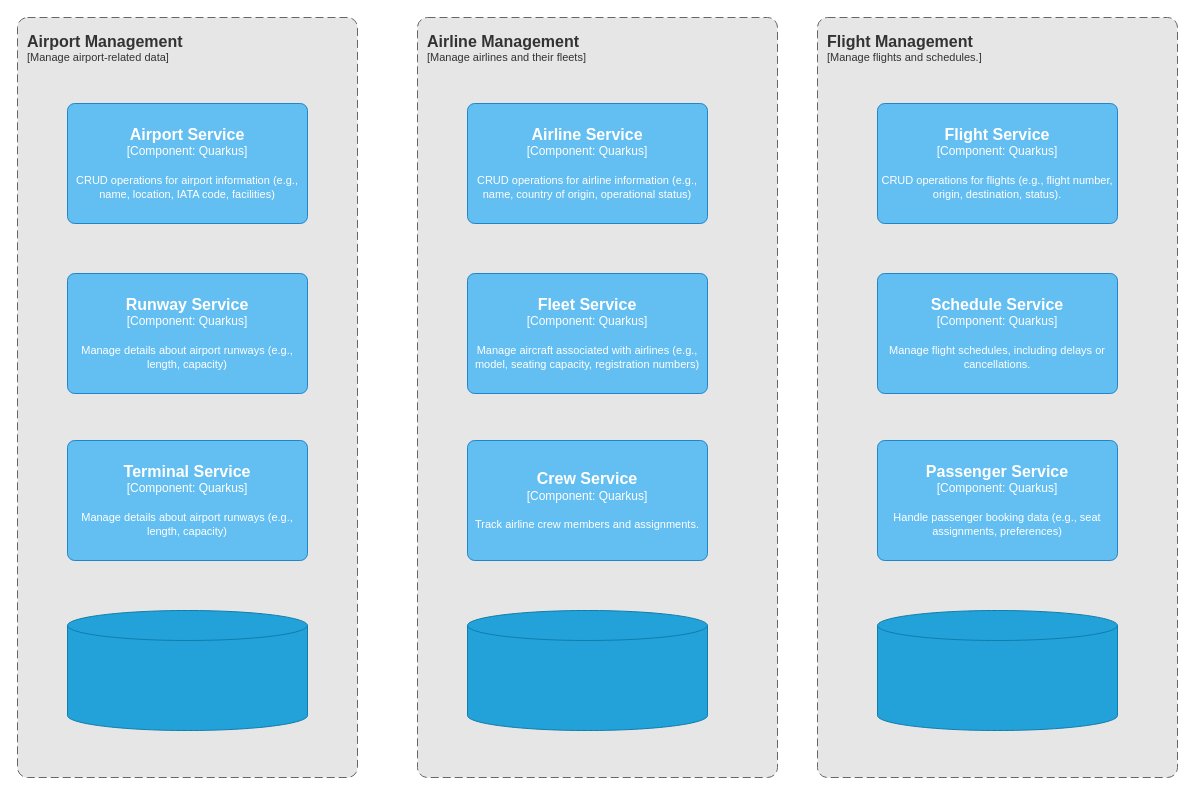
This 1195x795 diagram has some shape labels left out. Here are the shapes that lost their labels. From the top down, the centre of each, then its label:
At (187,670): "Airport Database [Container: Postgres 15] Stores all airport-related entities".
At (587,670): "Airline Database [Container: Postgres 15] Stores all airline related entities".
At (997,670): "Flight Database [Container: Postgres 15] Stores all flight related entities".
